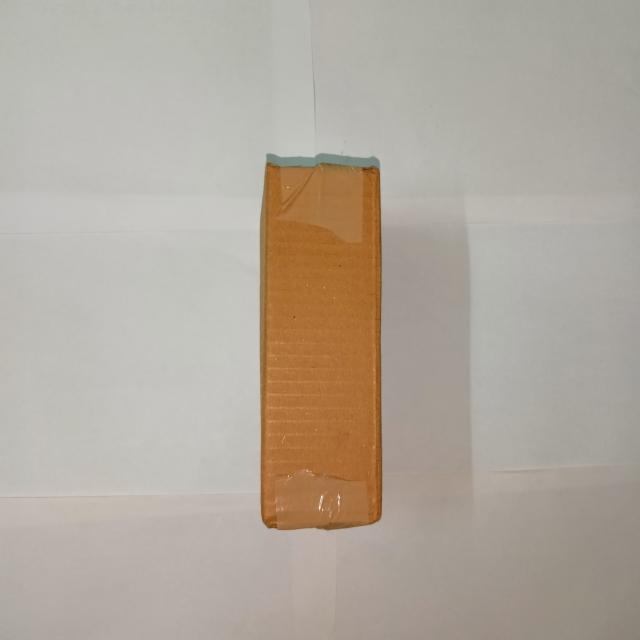box: (262, 165, 383, 528)
